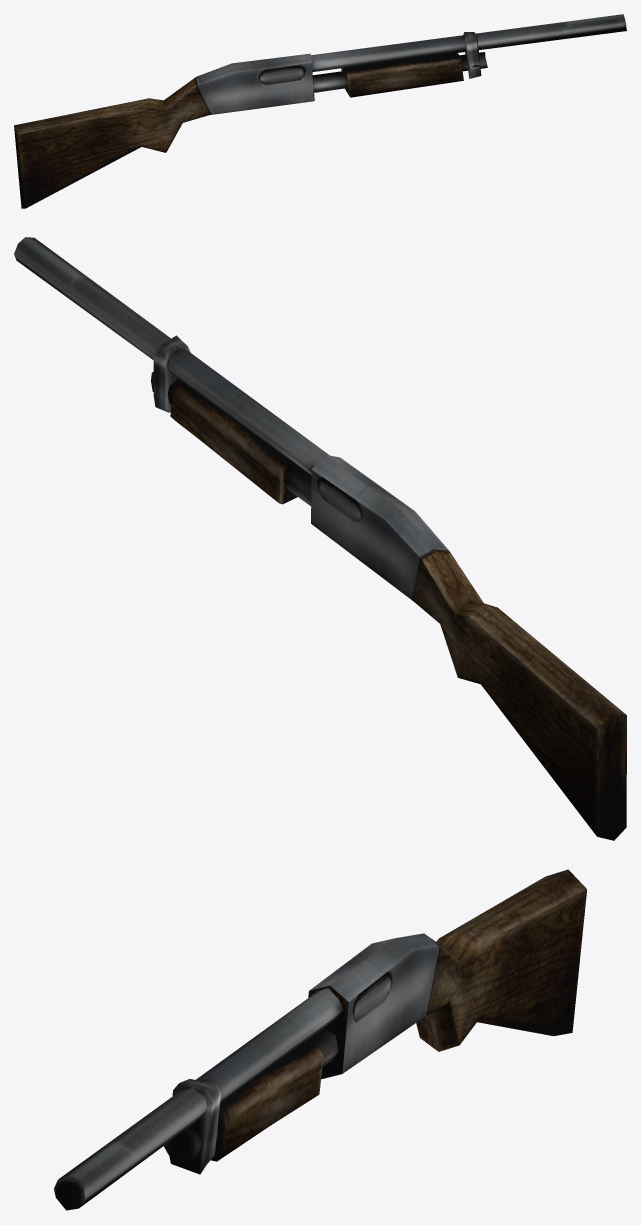
Rendered from spos_weapon.obj.
3 views of the same model, one above another, from view 1: azimuth 30°, elevation 25°; view 2: azimuth 150°, elevation 25°; view 3: azimuth 270°, elevation 25° (orthographic). The views are drawn at different scales.
Parts seen in each view (by area): view 1: Group; view 2: Group; view 3: Group.
Part boxes in pixels (<box>): Group: <box>14,14,626,208</box>; Group: <box>14,237,626,840</box>; Group: <box>54,869,586,1210</box>.
Bounding box in the file's own units: 32.47 × 10.42 × 15.26.
Materials: 1 (1 with a texture image).
